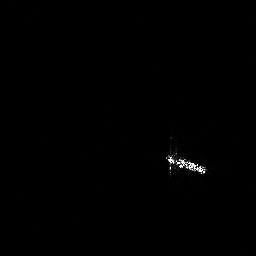ship: (162, 147, 211, 180)
